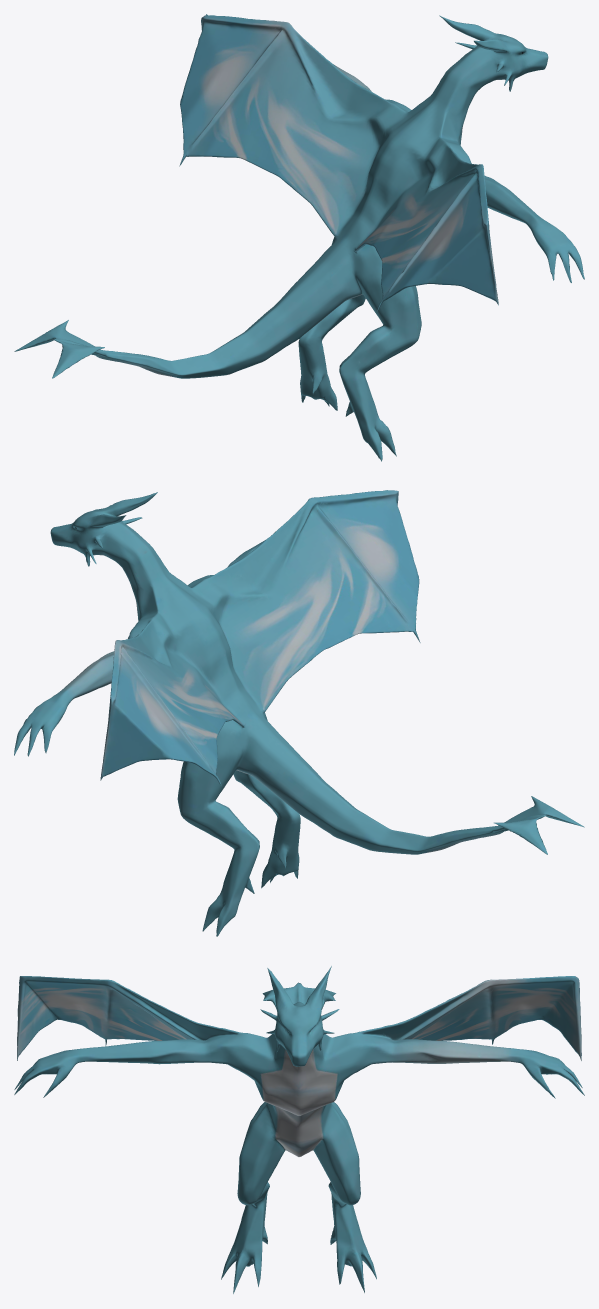
The model's file is dragon wind.glb.
3 renders of one model, top to bottom at view 1: azimuth 30°, elevation 25°; view 2: azimuth 150°, elevation 25°; view 3: azimuth 270°, elevation 25°, orthographic. The views are drawn at different scales.
Visible parts, largest first — view 1: tripo_node_a8b80cd8; view 2: tripo_node_a8b80cd8; view 3: tripo_node_a8b80cd8.
Part boxes in pixels (x1,y1,x2,y2): tripo_node_a8b80cd8: (14,14,584,461); tripo_node_a8b80cd8: (14,490,584,936); tripo_node_a8b80cd8: (14,966,584,1293).
Bounding box in the file's own units: 0.9924 × 0.7036 × 0.9747.
1 material, 1 textured.
